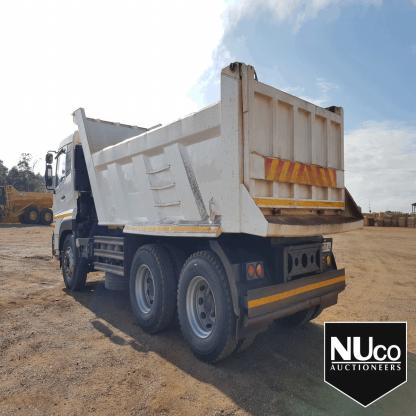dump_truck: (52, 53, 364, 371)
